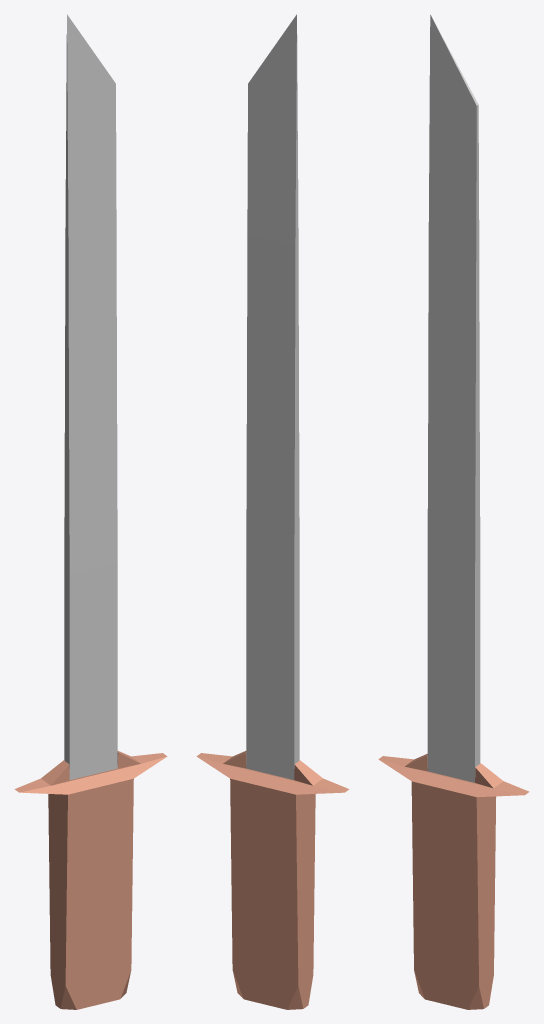
Rendered from Sword.fbx.
3 renders of one model, left to right at view 1: azimuth 30°, elevation 25°; view 2: azimuth 150°, elevation 25°; view 3: azimuth 330°, elevation 25°, orthographic.
Visible parts, largest first — view 1: Sword; view 2: Sword; view 3: Sword.
Part boxes in pixels (x1,y1,x2,y2): Sword: (14, 14, 167, 1009); Sword: (196, 14, 349, 1009); Sword: (378, 14, 529, 1009).
Size of the model in its own units: 21.47 by 137 by 4.98.
